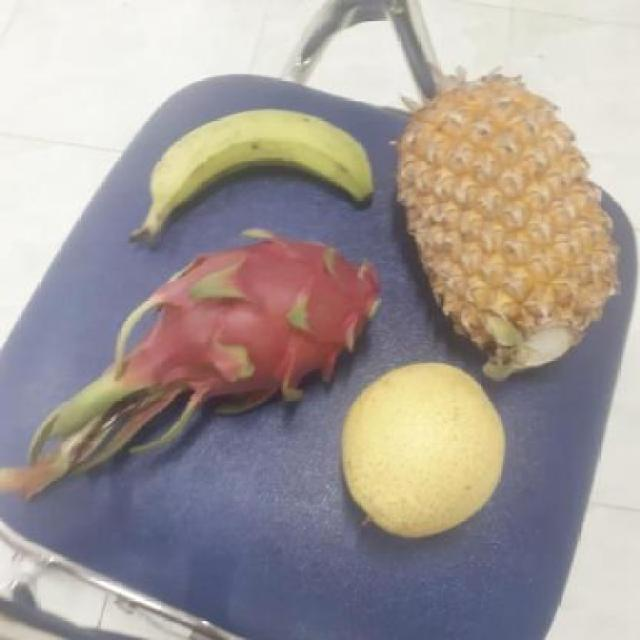banana: (147, 108, 381, 244)
dragon fruit: (132, 232, 406, 410)
pear: (339, 362, 515, 536)
pineapple: (409, 76, 620, 373)
